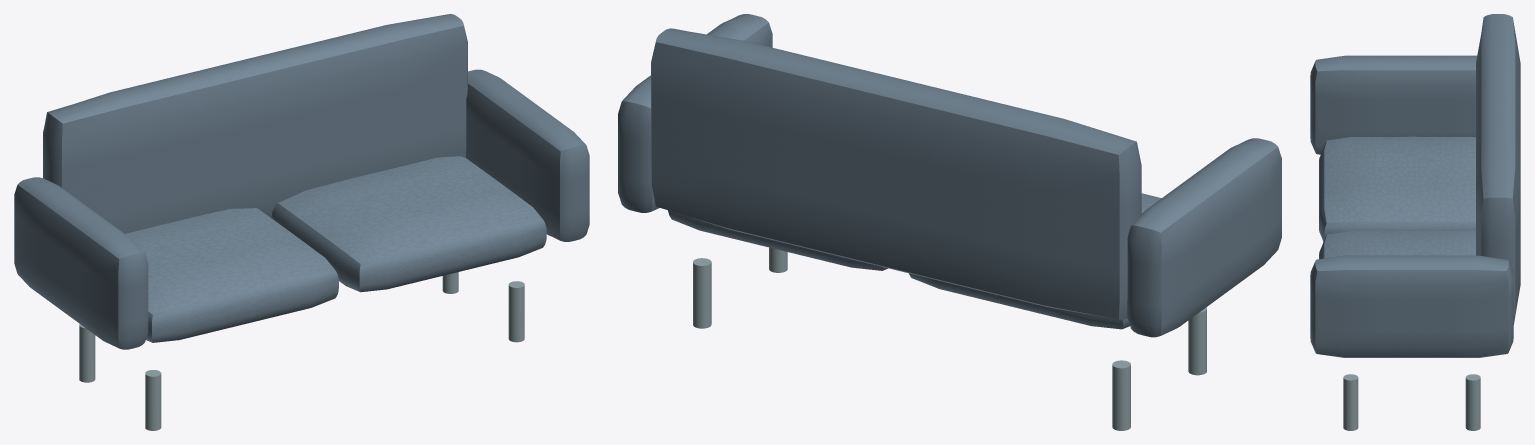
The model's file is sofa.glb.
3 views of the same model, side by side, from view 1: azimuth 30°, elevation 25°; view 2: azimuth 150°, elevation 25°; view 3: azimuth 270°, elevation 25° (orthographic). The views are drawn at different scales.
Visible parts, largest first — view 1: sofa; view 2: sofa; view 3: sofa.
Boxes of the visible parts, bbox=[...] form: sofa: bbox=[14, 14, 589, 430]; sofa: bbox=[618, 14, 1281, 430]; sofa: bbox=[1310, 14, 1520, 430].
Bounding box in the file's own units: 1.85 × 0.97 × 0.755.
9 materials, 9 textured.
